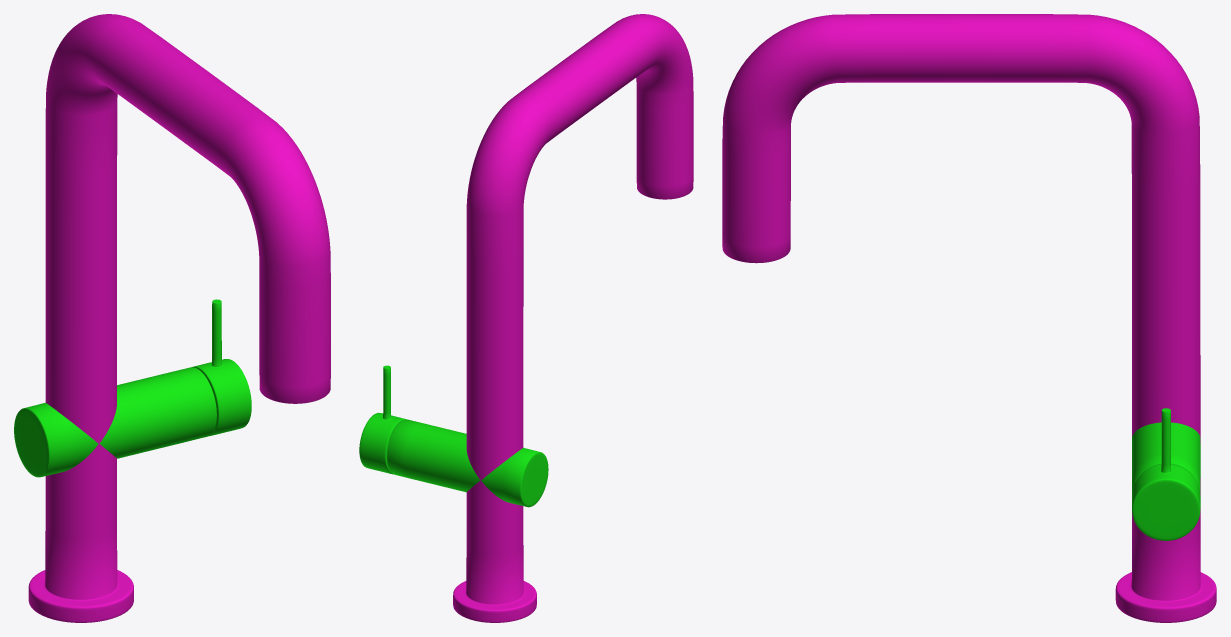
The model's file is WaterTap_high.fbx.
3 views of the same model, side by side, from view 1: azimuth 30°, elevation 25°; view 2: azimuth 150°, elevation 25°; view 3: azimuth 270°, elevation 25° (orthographic). The views are drawn at different scales.
Visible parts, largest first — view 1: Water_Pipe_high; view 2: Water_Pipe_high; view 3: Water_Pipe_high.
Part boxes in pixels (x1=…): Water_Pipe_high: x1=14, y1=14, x2=330, y2=622; Water_Pipe_high: x1=359, y1=14, x2=693, y2=622; Water_Pipe_high: x1=722, y1=14, x2=1216, y2=622.
Size of the model in its own units: 13.28 by 38.1 by 29.19.
